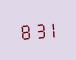eight: (18, 21, 30, 40)
one: (45, 19, 57, 38)
three: (32, 20, 44, 39)
